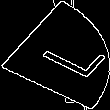L_NW: (15, 28, 95, 82)
